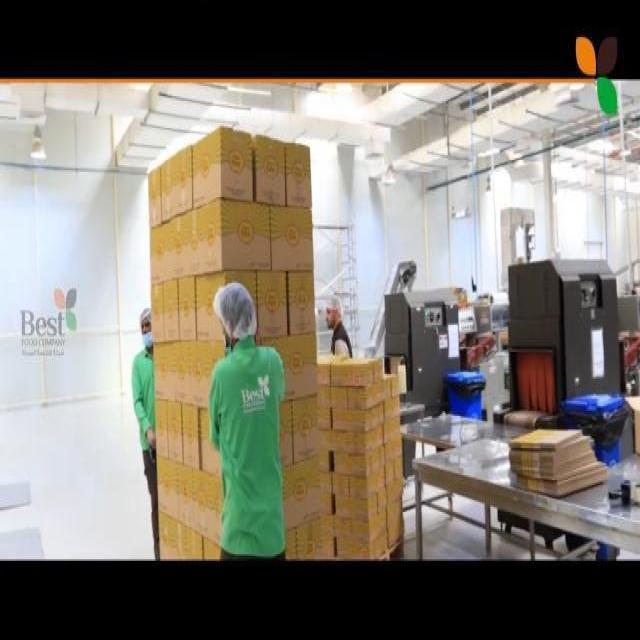bare_hand: (138, 424, 164, 461)
